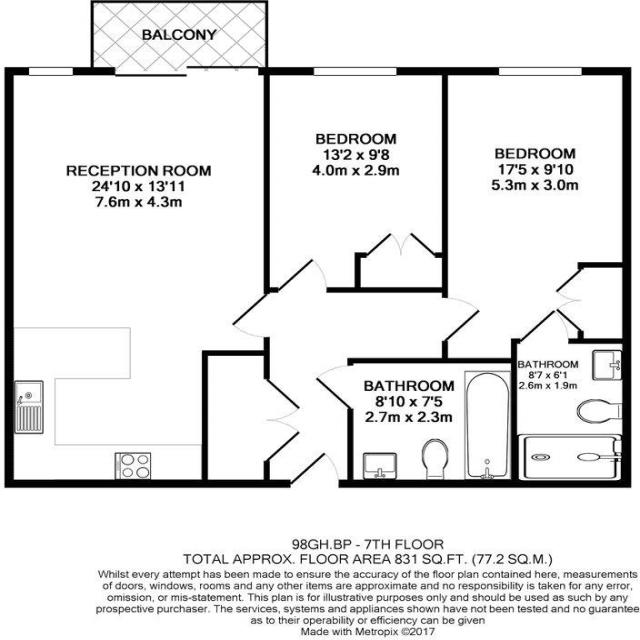DOOR: (227, 290, 270, 340), (276, 255, 330, 293), (288, 450, 341, 488), (442, 295, 483, 344), (312, 362, 353, 410), (517, 308, 571, 344)
ROOM: (3, 67, 269, 489), (443, 64, 633, 362), (264, 65, 449, 292)
WINDOW: (497, 65, 583, 77), (311, 66, 400, 77), (27, 66, 75, 77)
